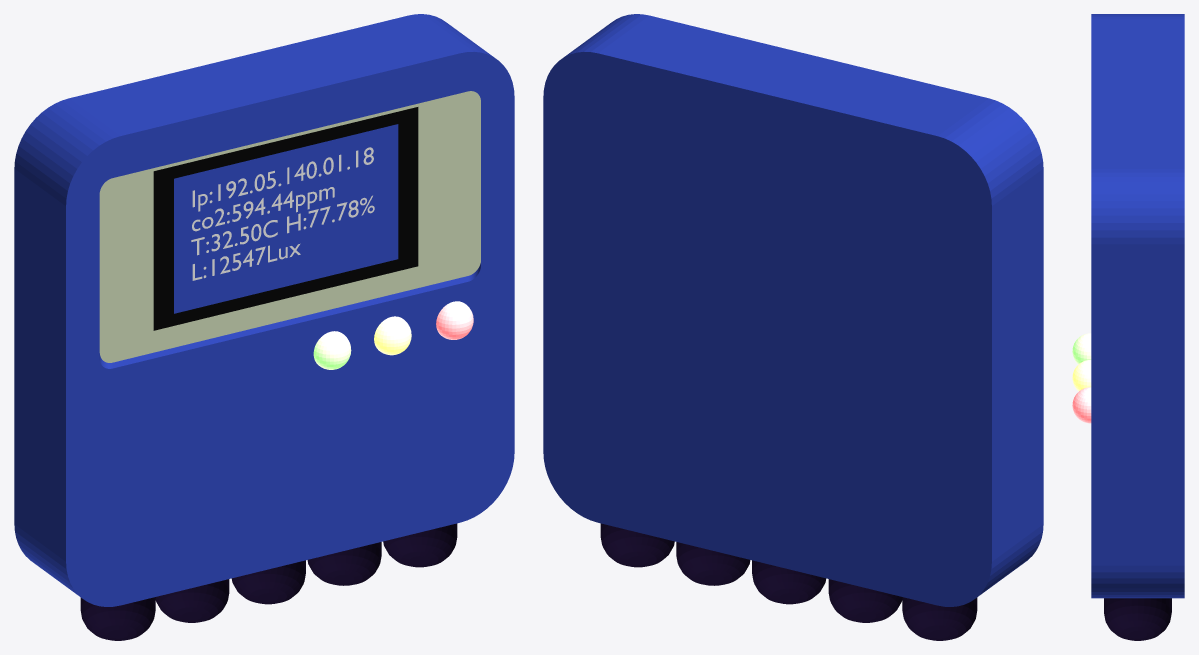
The model's file is 采集器.glb.
3 renders of one model, left to right at view 1: azimuth 30°, elevation 25°; view 2: azimuth 150°, elevation 25°; view 3: azimuth 270°, elevation 25°, orthographic. The views are drawn at different scales.
Parts seen in each view (by area): view 1: 立方体, 立方体.001, 平面, 平面.001, 文本, 柱体, 柱体.004, 柱体.003, 柱体.001, 柱体.002, 球体.002, 球体.001 (+1 smaller); view 2: 立方体, 柱体, 柱体.004, 柱体.003, 柱体.001, 柱体.002; view 3: 立方体, 柱体.004, 球体.002, 球体.001, 球体.
Part boxes in pixels (box(x1,y1,x2,y2)): 立方体: box(14, 14, 514, 606); 立方体.001: box(99, 91, 480, 362); 平面: box(174, 124, 398, 313); 平面.001: box(153, 107, 418, 330); 文本: box(191, 147, 374, 280); 柱体: box(80, 597, 155, 640); 柱体.004: box(383, 523, 457, 567); 柱体.003: box(307, 542, 381, 585); 柱体.001: box(155, 579, 229, 622); 柱体.002: box(231, 560, 305, 604); 球体.002: box(436, 301, 473, 339); 球体.001: box(374, 316, 411, 355); 立方体: box(543, 14, 1043, 606); 柱体: box(902, 597, 977, 640); 柱体.004: box(600, 523, 674, 567); 柱体.003: box(676, 542, 750, 585); 柱体.001: box(828, 579, 902, 622); 柱体.002: box(752, 560, 826, 604); 立方体: box(1091, 14, 1184, 598); 柱体.004: box(1104, 598, 1171, 640); 球体.002: box(1072, 387, 1091, 423); 球体.001: box(1072, 360, 1091, 391); 球体: box(1072, 333, 1091, 364).
Size of the model in its own units: 2 by 2.23 by 0.4792.
